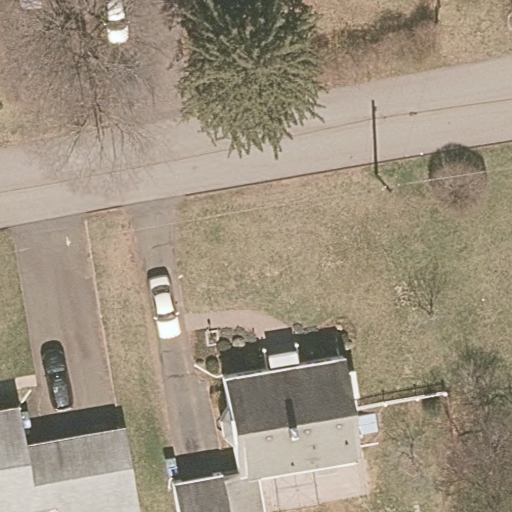DT: (374, 172, 396, 194)
